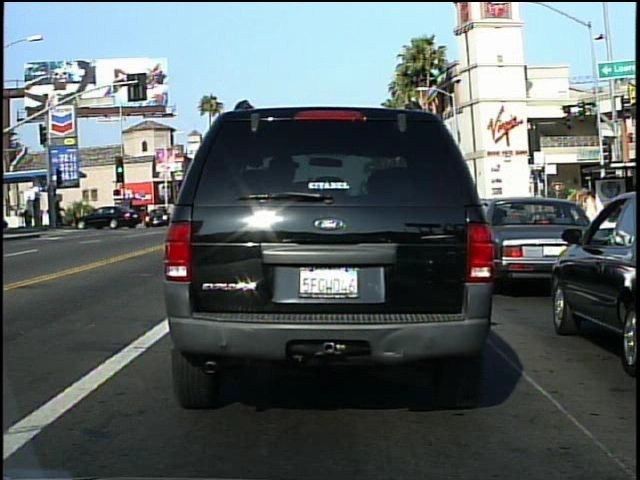person: (581, 188, 603, 245)
